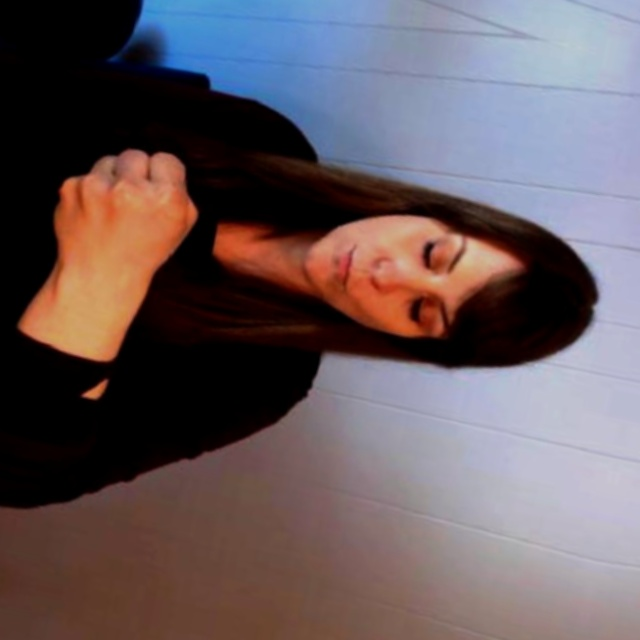Rock: (32, 131, 213, 295)
